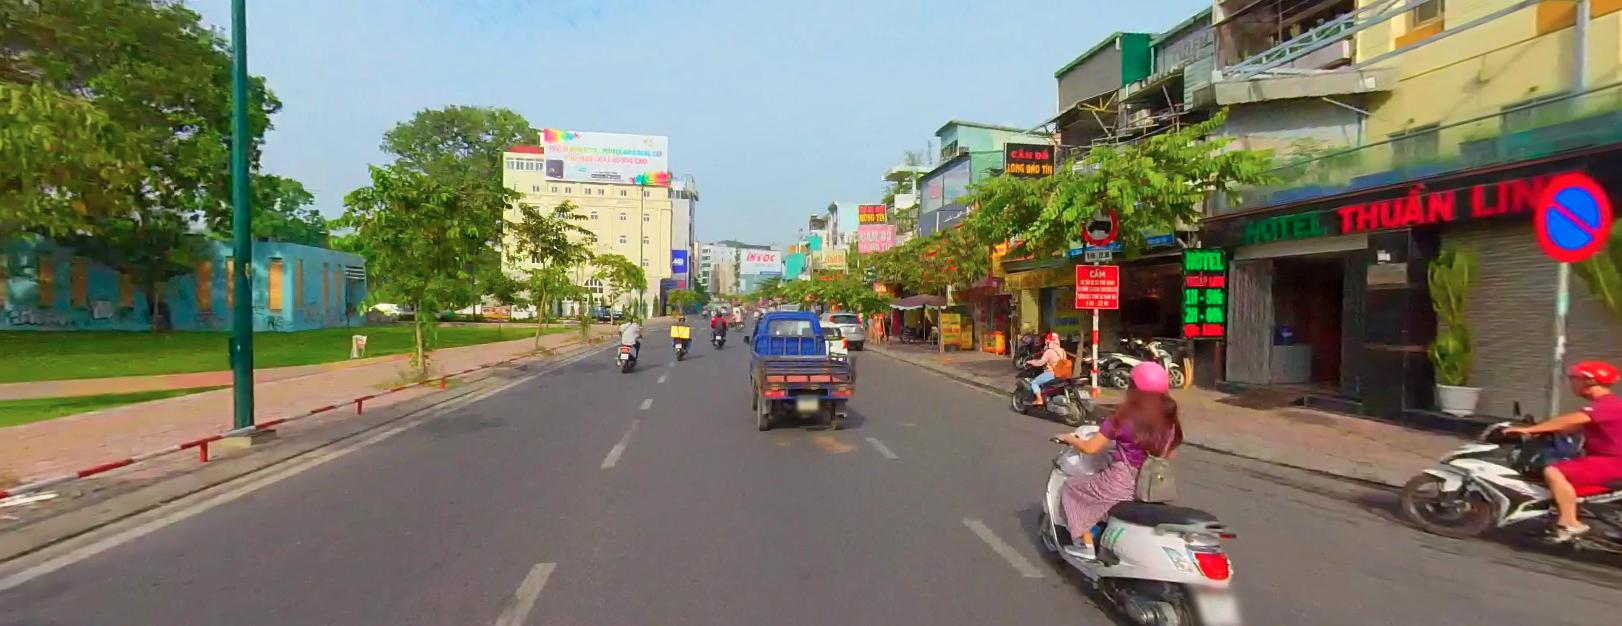Cam con lai: (1076, 199, 1120, 243)
Cam dung va do: (1528, 163, 1614, 262)
